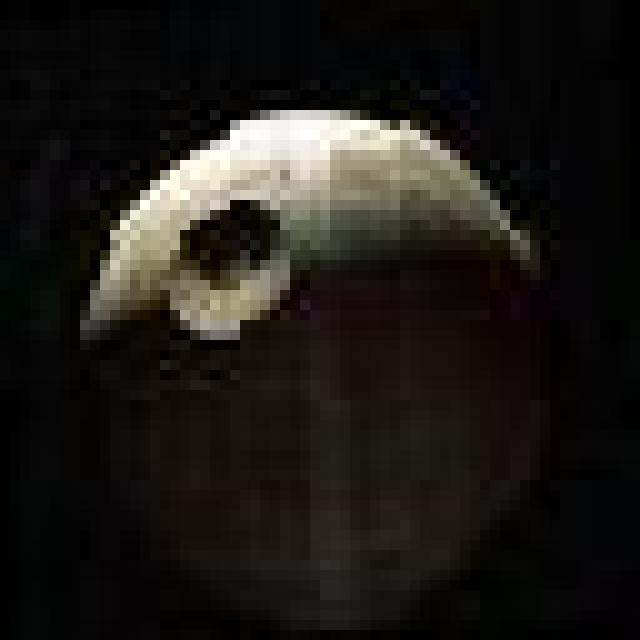Death Star: (80, 109, 570, 618)
